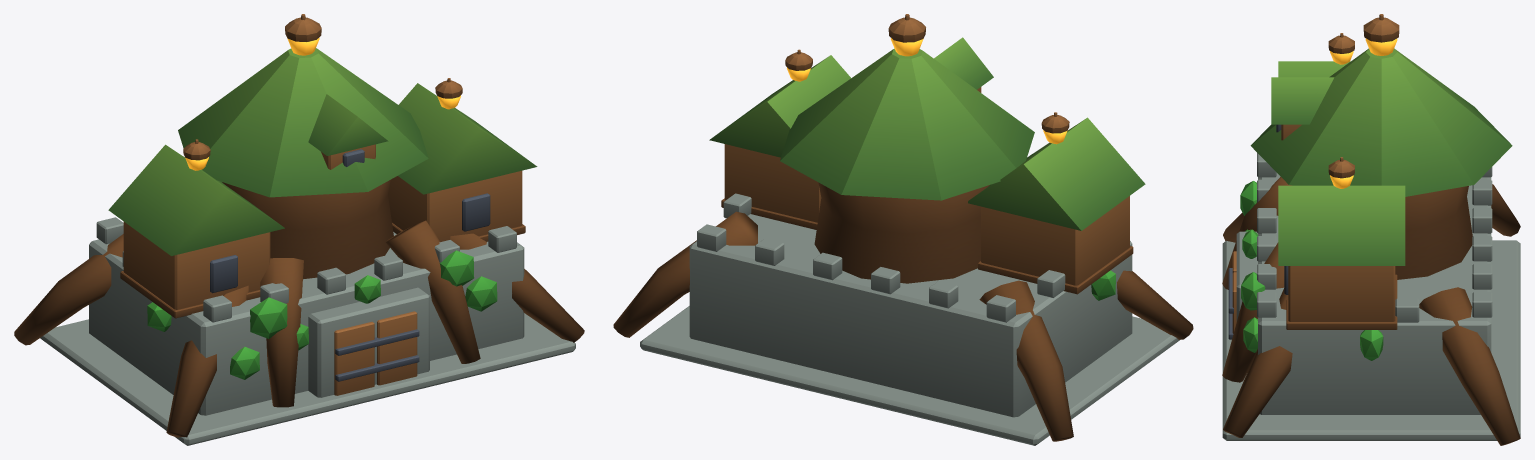
Rendered from env_castle_forest.glb.
The picture shows the model from 3 angles, left to right: view 1: azimuth 30°, elevation 25°; view 2: azimuth 150°, elevation 25°; view 3: azimuth 270°, elevation 25°; orthographic projection.
Parts seen in each view (by area): view 1: env_castle_forest; view 2: env_castle_forest; view 3: env_castle_forest.
Boxes of the visible parts, x1,y1,x2,y2 form: env_castle_forest: [14, 14, 584, 445]; env_castle_forest: [613, 14, 1193, 445]; env_castle_forest: [1222, 14, 1520, 445].
Bounding box in the file's own units: 5.28 × 3.68 × 3.01.
Materials: 1 (1 with a texture image).
